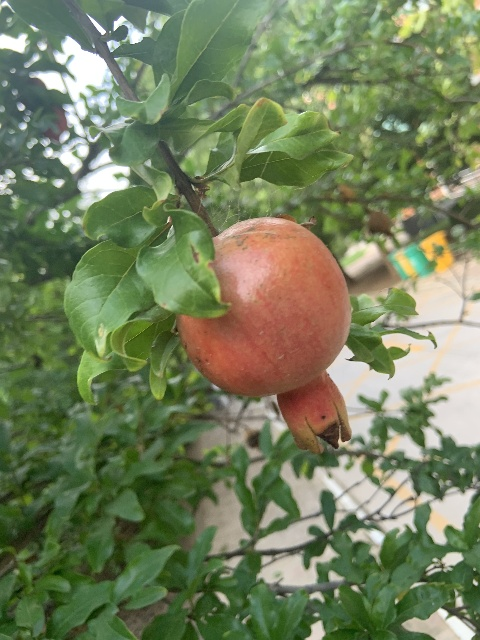mid-growth: (365, 209, 399, 244)
ripe: (175, 217, 352, 454)
